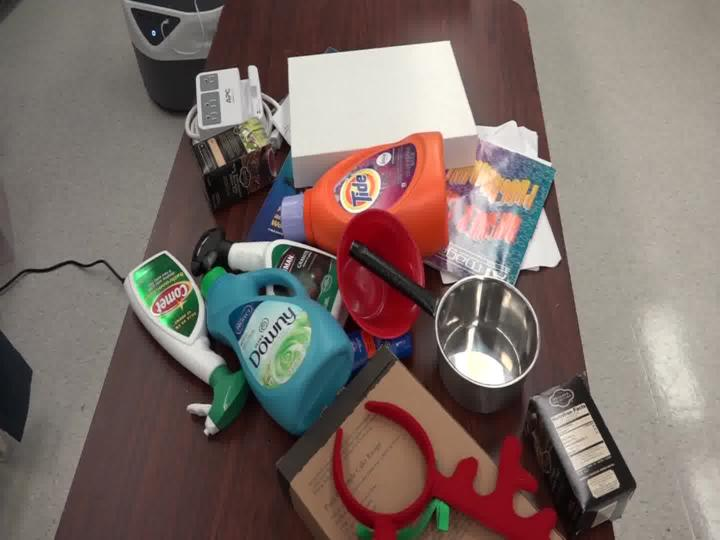downy: (174, 237, 376, 451)
